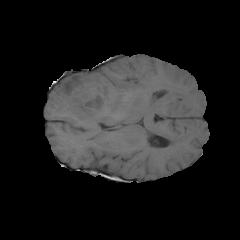glioma: (46, 70, 124, 124)
